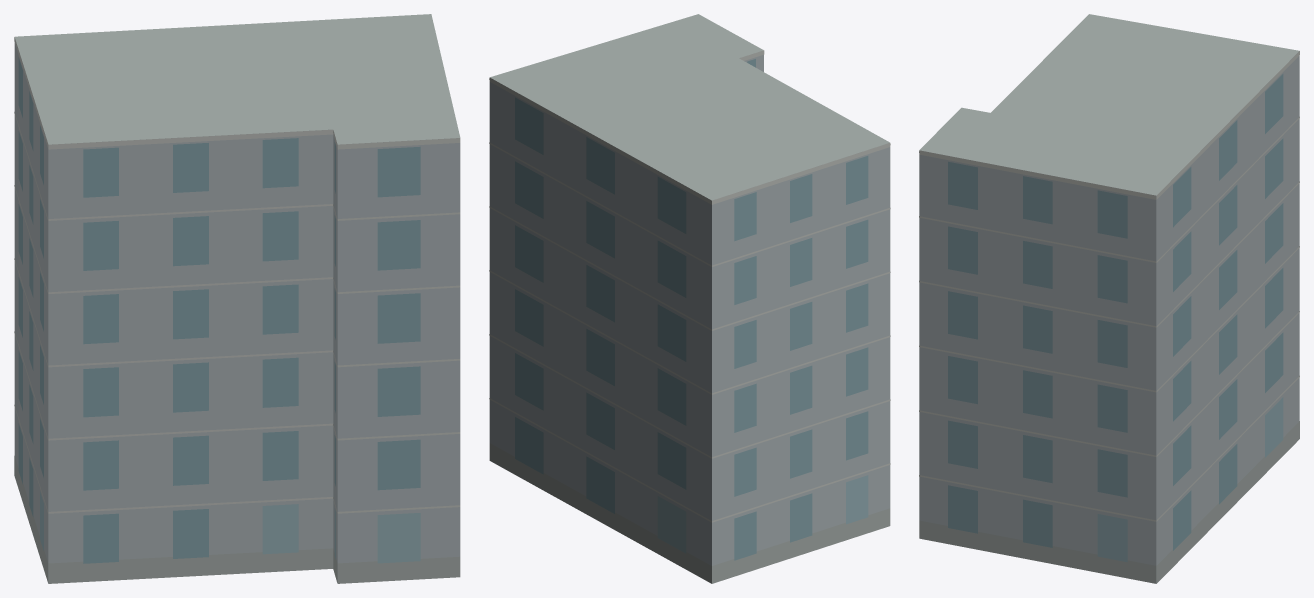
The model's file is survey-upis-32825206.glb.
The picture shows the model from 3 angles, left to right: view 1: azimuth 30°, elevation 25°; view 2: azimuth 150°, elevation 25°; view 3: azimuth 270°, elevation 25°; orthographic projection. The views are drawn at different scales.
Parts seen in each view (by area): view 1: survey-upis-32825206.tmp; view 2: survey-upis-32825206.tmp; view 3: survey-upis-32825206.tmp.
Part boxes in pixels (x1,y1,x2,y2): survey-upis-32825206.tmp: [14, 14, 460, 583]; survey-upis-32825206.tmp: [489, 14, 890, 583]; survey-upis-32825206.tmp: [919, 14, 1299, 583].
Bounding box in the file's own units: 21.73 × 21.64 × 19.24.
